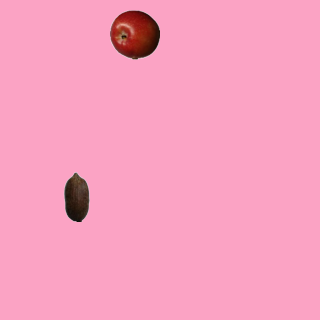Apple Braeburn: (109, 9, 159, 59)
Nut Pecan: (51, 171, 101, 221)
